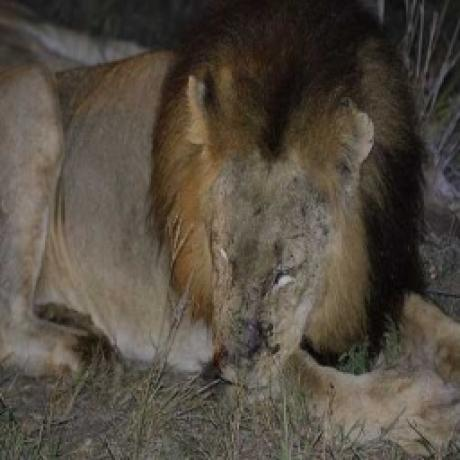Lion: (0, 0, 460, 394)
